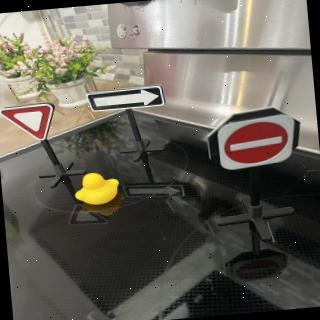duck_regular: (74, 170, 124, 209)
sign_noentry: (215, 114, 301, 173)
sign_oneway_right: (87, 85, 169, 113)
sign_yield: (1, 102, 65, 146)
